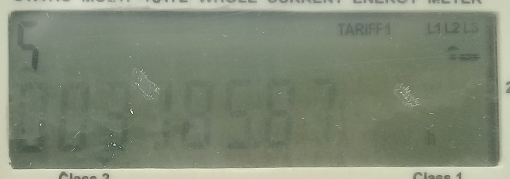digit: (177, 70, 217, 153), (52, 75, 92, 154), (94, 73, 131, 156), (300, 75, 342, 147), (259, 70, 297, 148), (222, 70, 259, 150), (16, 78, 52, 156), (155, 73, 177, 148)
